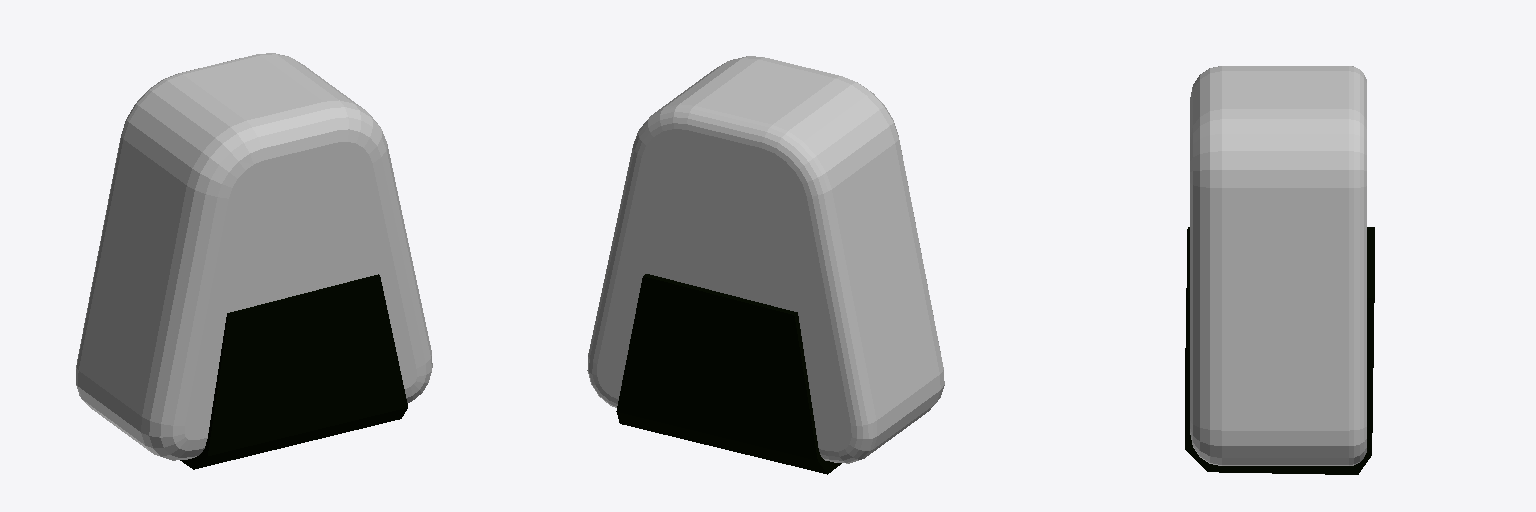
Rendered from onigiri.obj.
3 renders of one model, left to right at view 1: azimuth 30°, elevation 25°; view 2: azimuth 150°, elevation 25°; view 3: azimuth 270°, elevation 25°, orthographic.
Visible parts, largest first — view 1: onigirti_Cube.007; view 2: onigirti_Cube.007; view 3: onigirti_Cube.007.
Boxes of the visible parts, x1,y1,x2,y2 form: onigirti_Cube.007: [76, 53, 432, 469]; onigirti_Cube.007: [587, 56, 944, 474]; onigirti_Cube.007: [1185, 66, 1374, 474].
Size of the model in its own units: 0.2331 by 0.2569 by 0.1327.